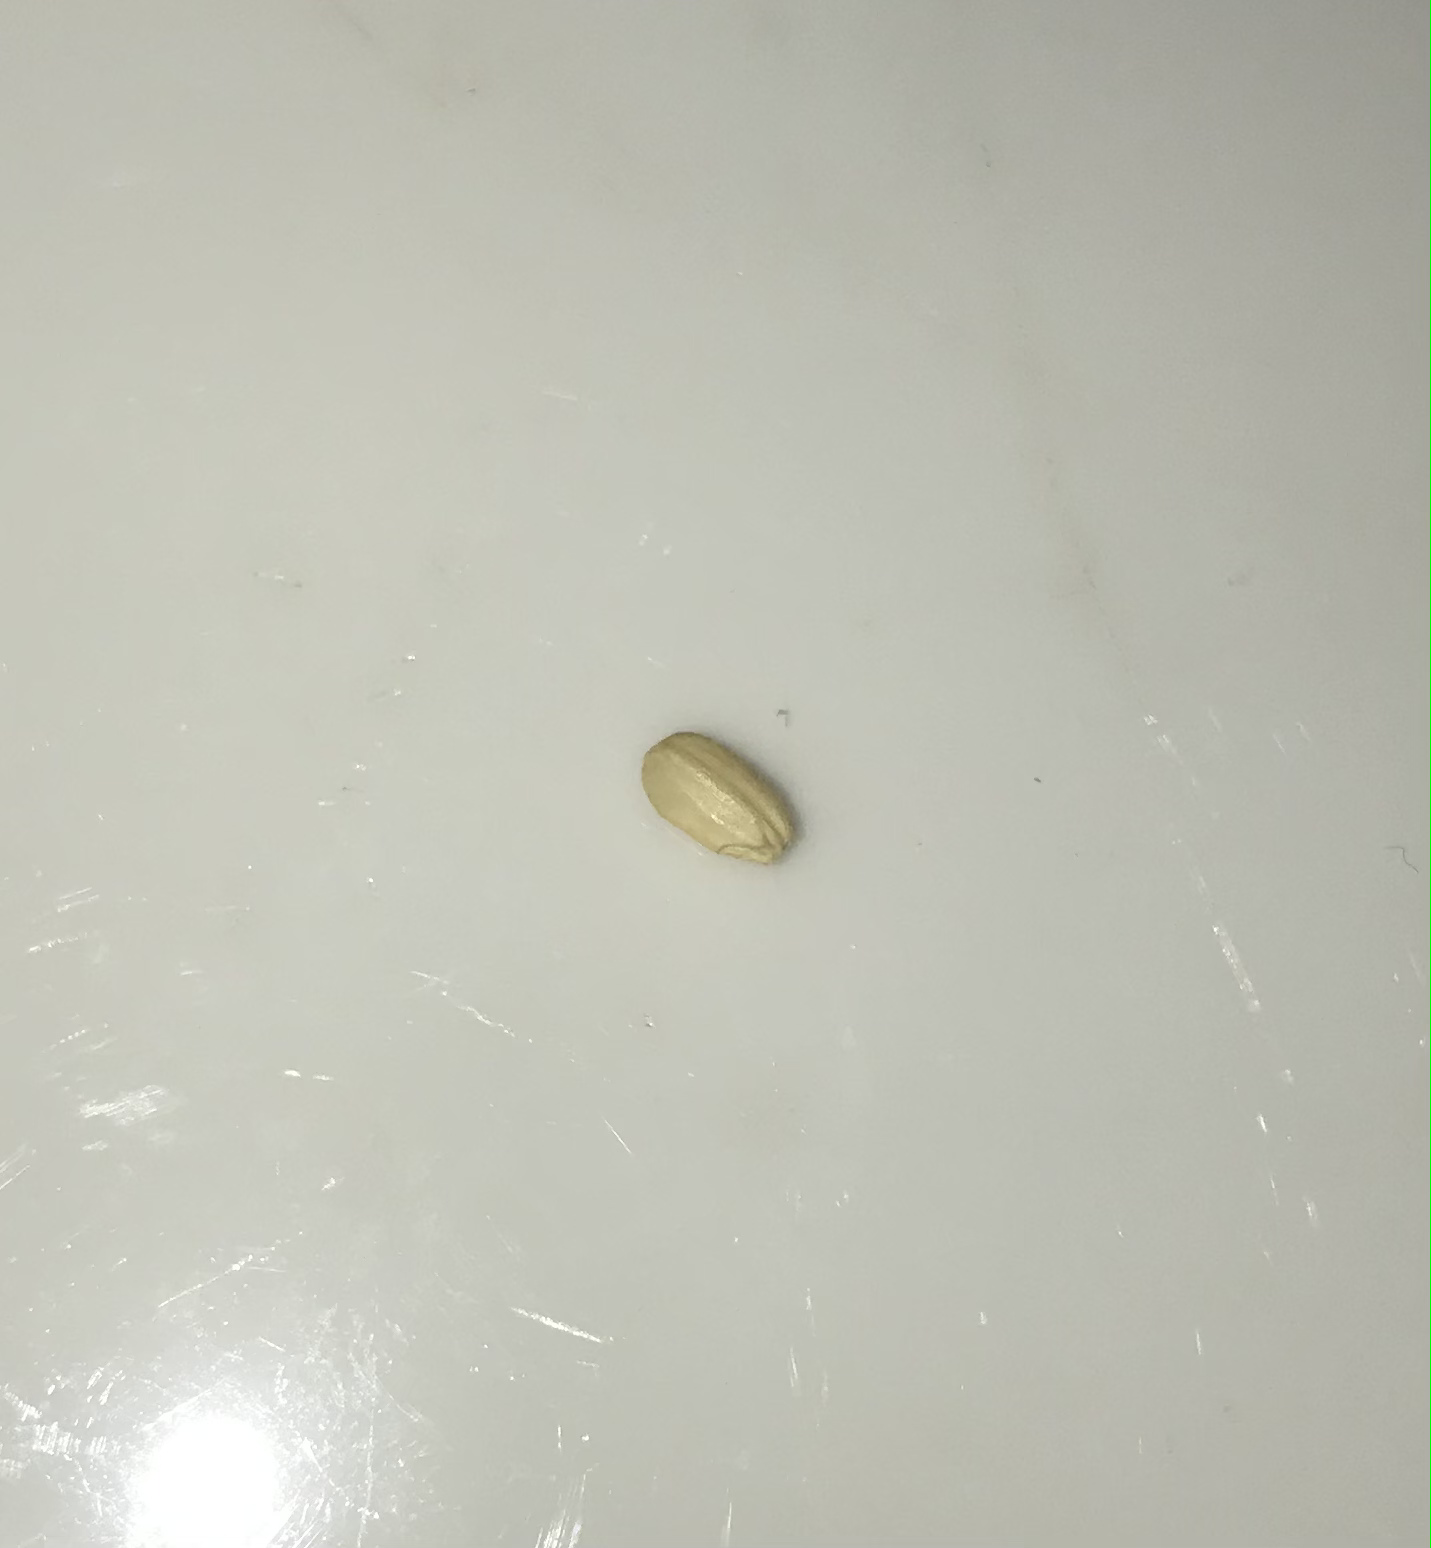Gao Lut Bac: (633, 709, 801, 876)
